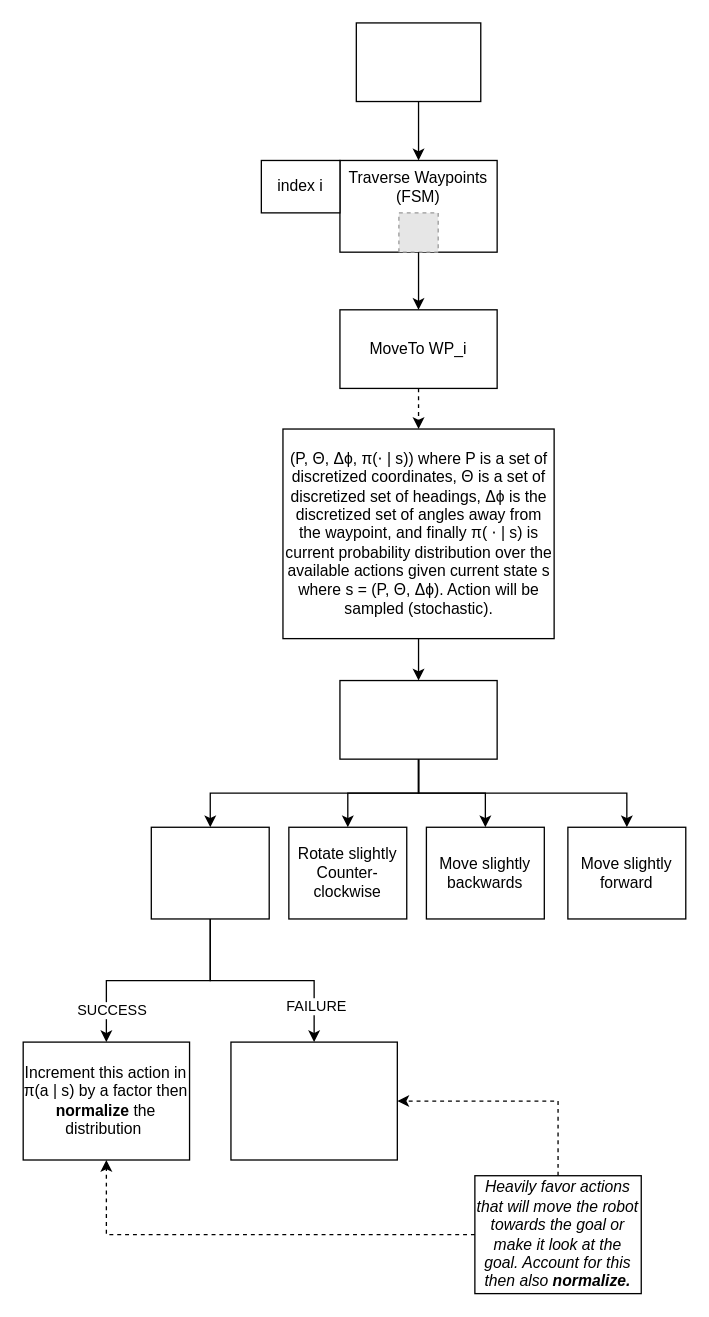
The diagram is 709 pixels wide and 1317 high, and some of its shapes have lost their labels. Grey dashed boxes stand in for pictures. Here are the shapes that lost their labels. From the top down, the centre of each, then its label:
point (418, 62): Arbitrary Composite
point (418, 719): a ∼ π ( ⋅ ∣ s ) where s = ( P, Θ, Δ ρ , Δ ϕ )
point (209, 872): Rotate slightly Clockwise
point (313, 1100): Discount this action in π(a | s) by a factor then normalize the distribution
